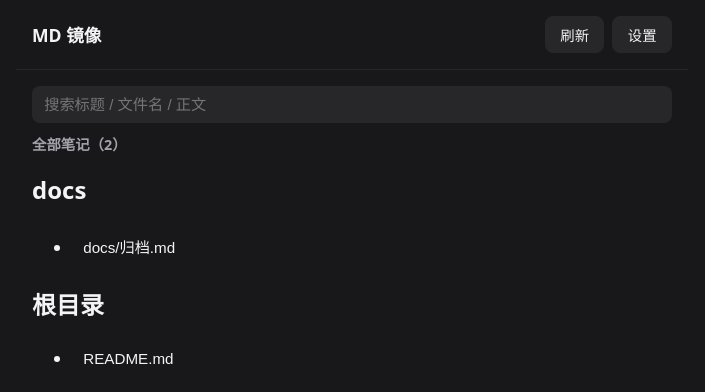
Test: 首页全局搜索（集成） › 标题与路径双命中 → 「文件」与「标题 H1」标签并存；清空恢复全量
Type "归档" into the search field with class "search-input" at (352, 105), box [32,86,672,123]
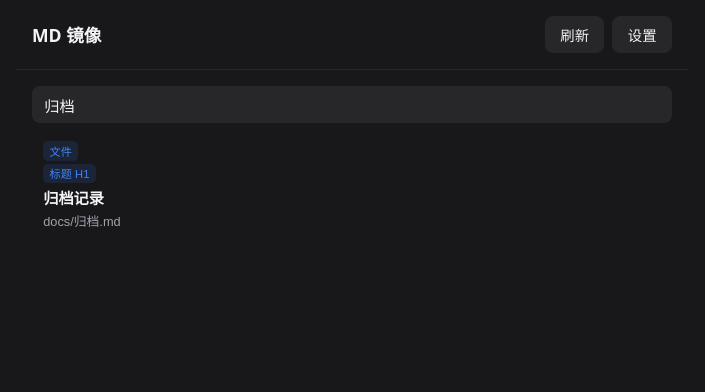
Check: the text "docs/归档.md" is shown, box [43,211,121,230]
Check: the text "文件" is shown, box [43,141,78,161]
Check: the text "标题 H1" is shown, box [43,164,96,183]
Clear the search field with class "search-input" at (352, 105), box [32,86,672,123]
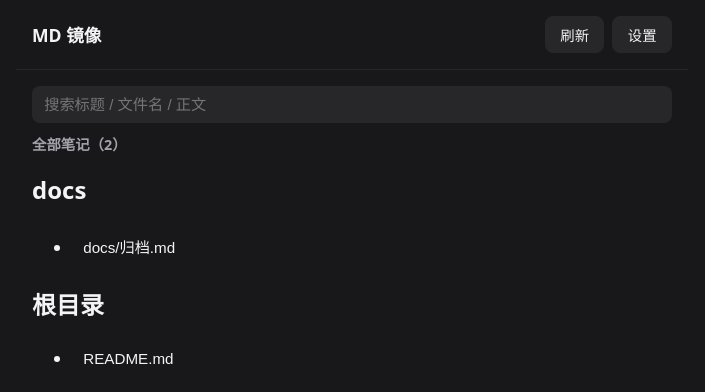
Check: the text "README.md" is shown, box [72,341,672,375]
